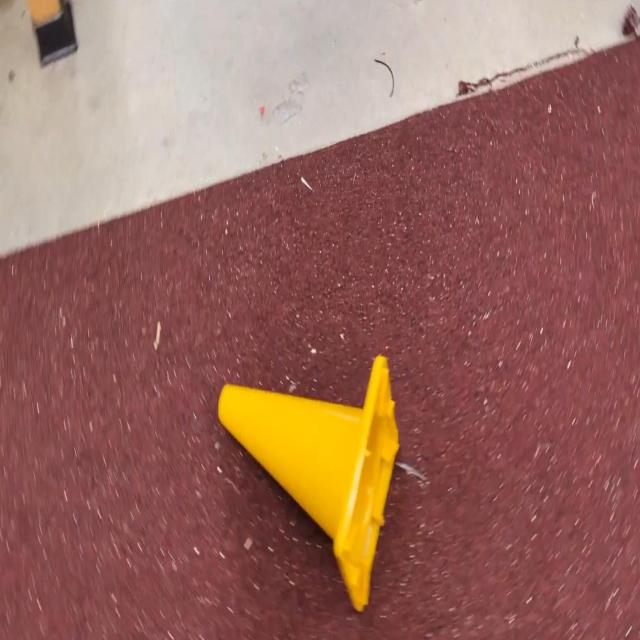frc_cone: (217, 354, 399, 610)
